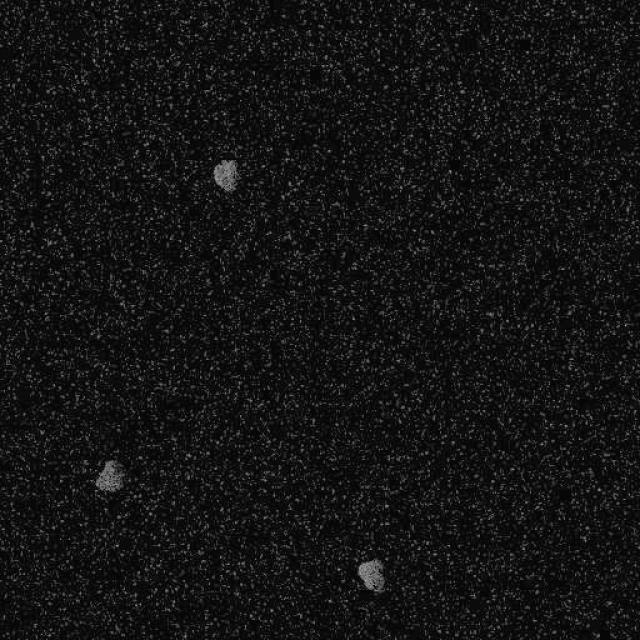D2: (356, 556, 385, 594), (94, 458, 126, 492), (212, 158, 238, 192)
